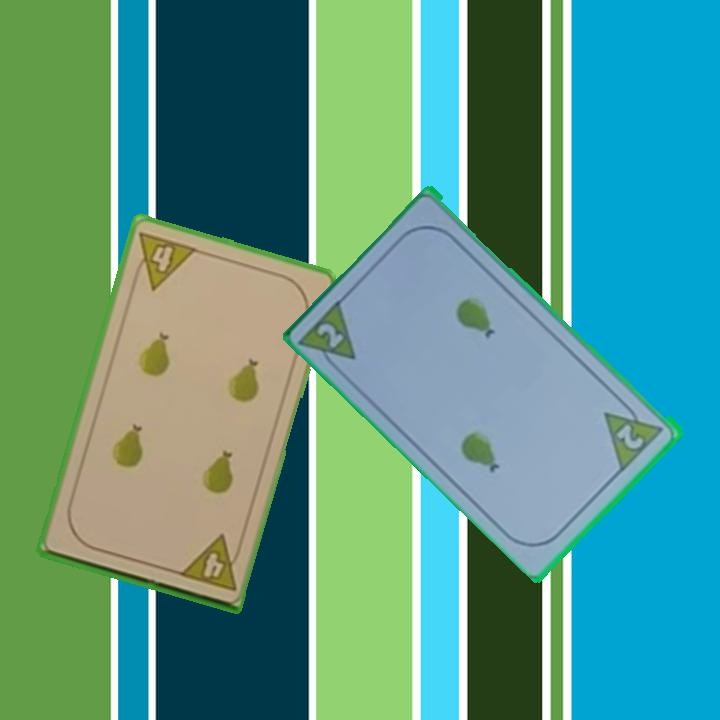2p: (297, 294, 360, 378), (613, 420, 647, 453)
4p: (127, 227, 200, 293), (175, 531, 246, 594)
